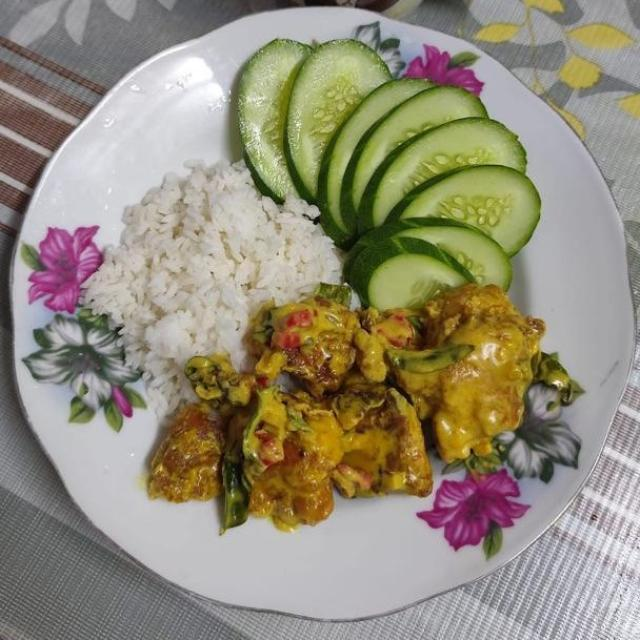Chicken: (154, 283, 547, 534)
Plate: (18, 55, 629, 613)
Rice: (83, 168, 339, 416)
Vegetables: (235, 28, 541, 312)
